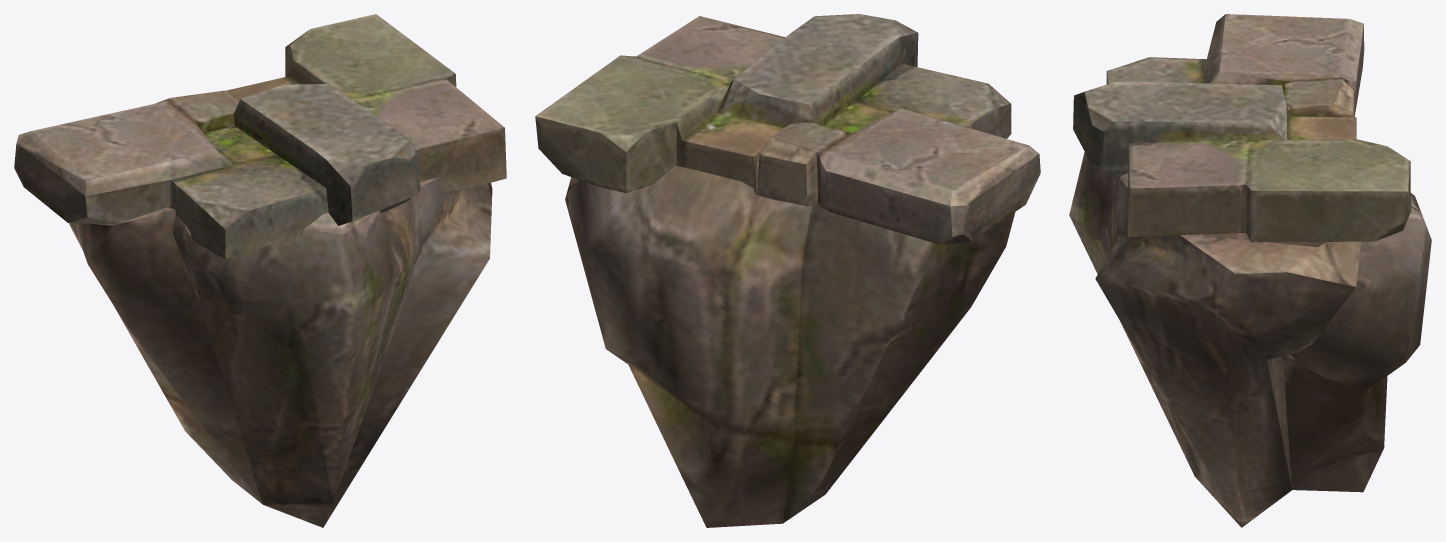
The model's file is xinshoubujian8.FBX.
3 views of the same model, side by side, from view 1: azimuth 30°, elevation 25°; view 2: azimuth 150°, elevation 25°; view 3: azimuth 270°, elevation 25° (orthographic). The views are drawn at different scales.
Parts seen in each view (by area): view 1: Mesh_0088; view 2: Mesh_0088; view 3: Mesh_0088.
Boxes of the visible parts, x1,y1,x2,y2 form: Mesh_0088: [14, 14, 506, 527]; Mesh_0088: [535, 14, 1040, 527]; Mesh_0088: [1069, 14, 1431, 527].
Bounding box in the file's own units: 7.37 × 7.41 × 5.84.
